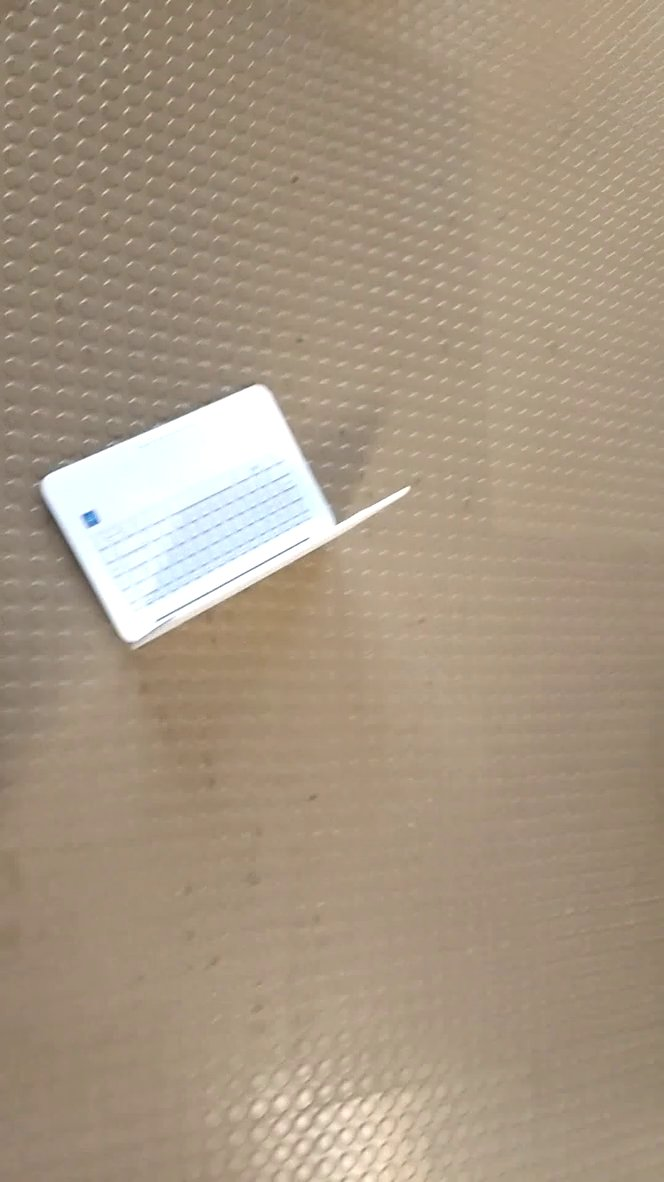laptop: (32, 374, 420, 663)
